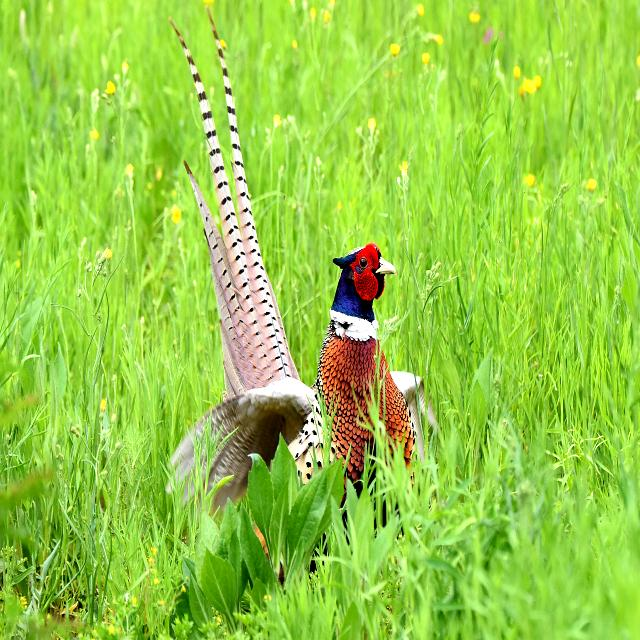Phasianus Colchicus: (171, 8, 301, 391)
